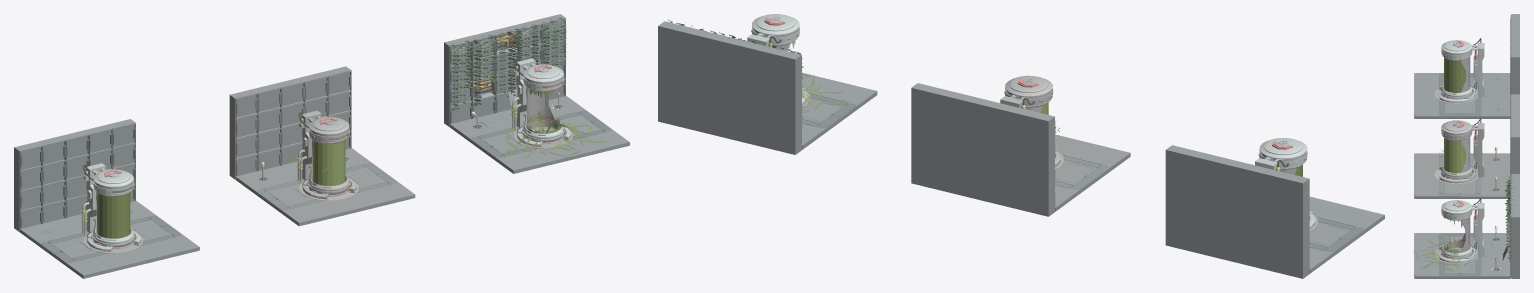
3 renders of one model, left to right at view 1: azimuth 30°, elevation 25°; view 2: azimuth 150°, elevation 25°; view 3: azimuth 270°, elevation 25°, orthographic. The views are drawn at different scales.
Visible parts, largest first — view 1: middle16, polySurface6, old13, middle31, polySurface1, old28, old35, pCylinder1, middle35, old31, details_pCylinder4, middle27 (+9 smaller); view 2: polySurface6, middle16, old13, polySurface1, middle31, old28, middle27, details_pCylinder4, old24; view 3: polySurface1, old28, middle31, old13, polySurface6, middle16, pCylinder1, middle35, old31, old24, details_pCylinder4, middle27 (+18 smaller).
Boxes of the visible parts, x1,y1,x2,y2 form: middle16: (229, 66, 351, 179); polySurface6: (14, 119, 135, 232); old13: (444, 14, 565, 127); middle31: (235, 148, 415, 226); polySurface1: (20, 200, 199, 278); old28: (450, 96, 629, 173); old35: (450, 17, 566, 110); pCylinder1: (97, 192, 130, 238); middle35: (312, 140, 345, 185); old31: (506, 87, 607, 158); details_pCylinder4: (92, 169, 134, 196); middle27: (308, 116, 349, 143); polySurface6: (1165, 145, 1309, 278); middle16: (911, 83, 1055, 216); old13: (658, 21, 801, 154); polySurface1: (1309, 196, 1384, 273); middle31: (1055, 134, 1130, 211); old28: (802, 72, 877, 149); middle27: (1004, 75, 1053, 107); details_pCylinder4: (1258, 138, 1307, 169); old24: (751, 14, 799, 45); polySurface1: (1414, 73, 1510, 118); old28: (1414, 233, 1510, 278); middle31: (1414, 153, 1510, 198); old13: (1510, 174, 1519, 278); polySurface6: (1510, 14, 1519, 97); middle16: (1510, 94, 1519, 174); pCylinder1: (1444, 57, 1465, 92); middle35: (1444, 137, 1465, 173); old31: (1413, 217, 1479, 271); old24: (1441, 200, 1472, 220); details_pCylinder4: (1441, 40, 1472, 60); middle27: (1441, 120, 1472, 140).
Bounding box in the file's own units: 38.22 × 5.51 × 8.49.
